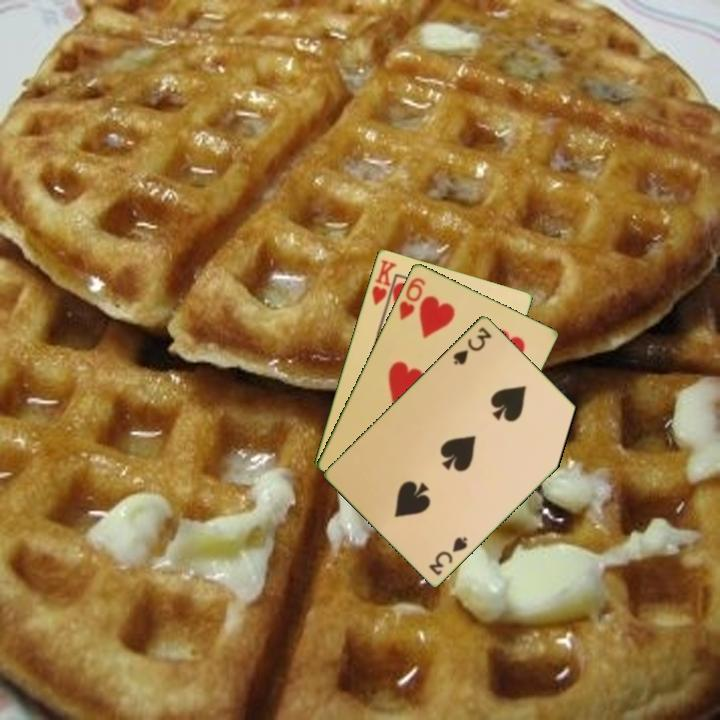3s: (449, 323, 495, 368), (425, 533, 470, 578)
6h: (395, 273, 428, 323)
Kh: (368, 256, 399, 313)
